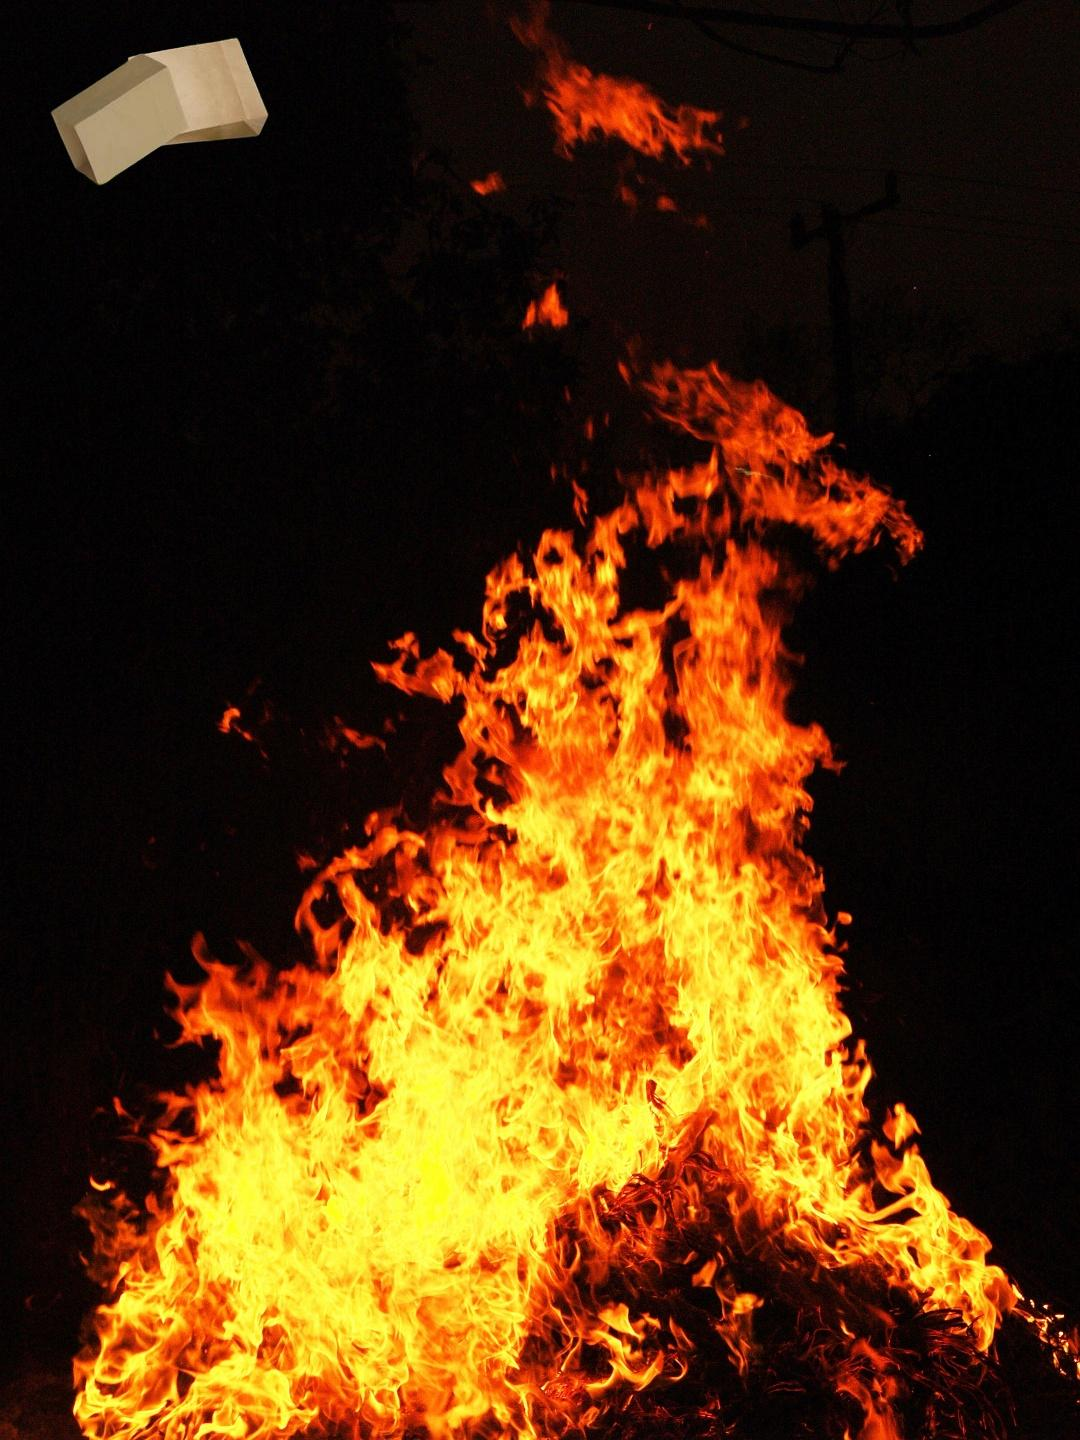paper-bag: (47, 33, 272, 189)
